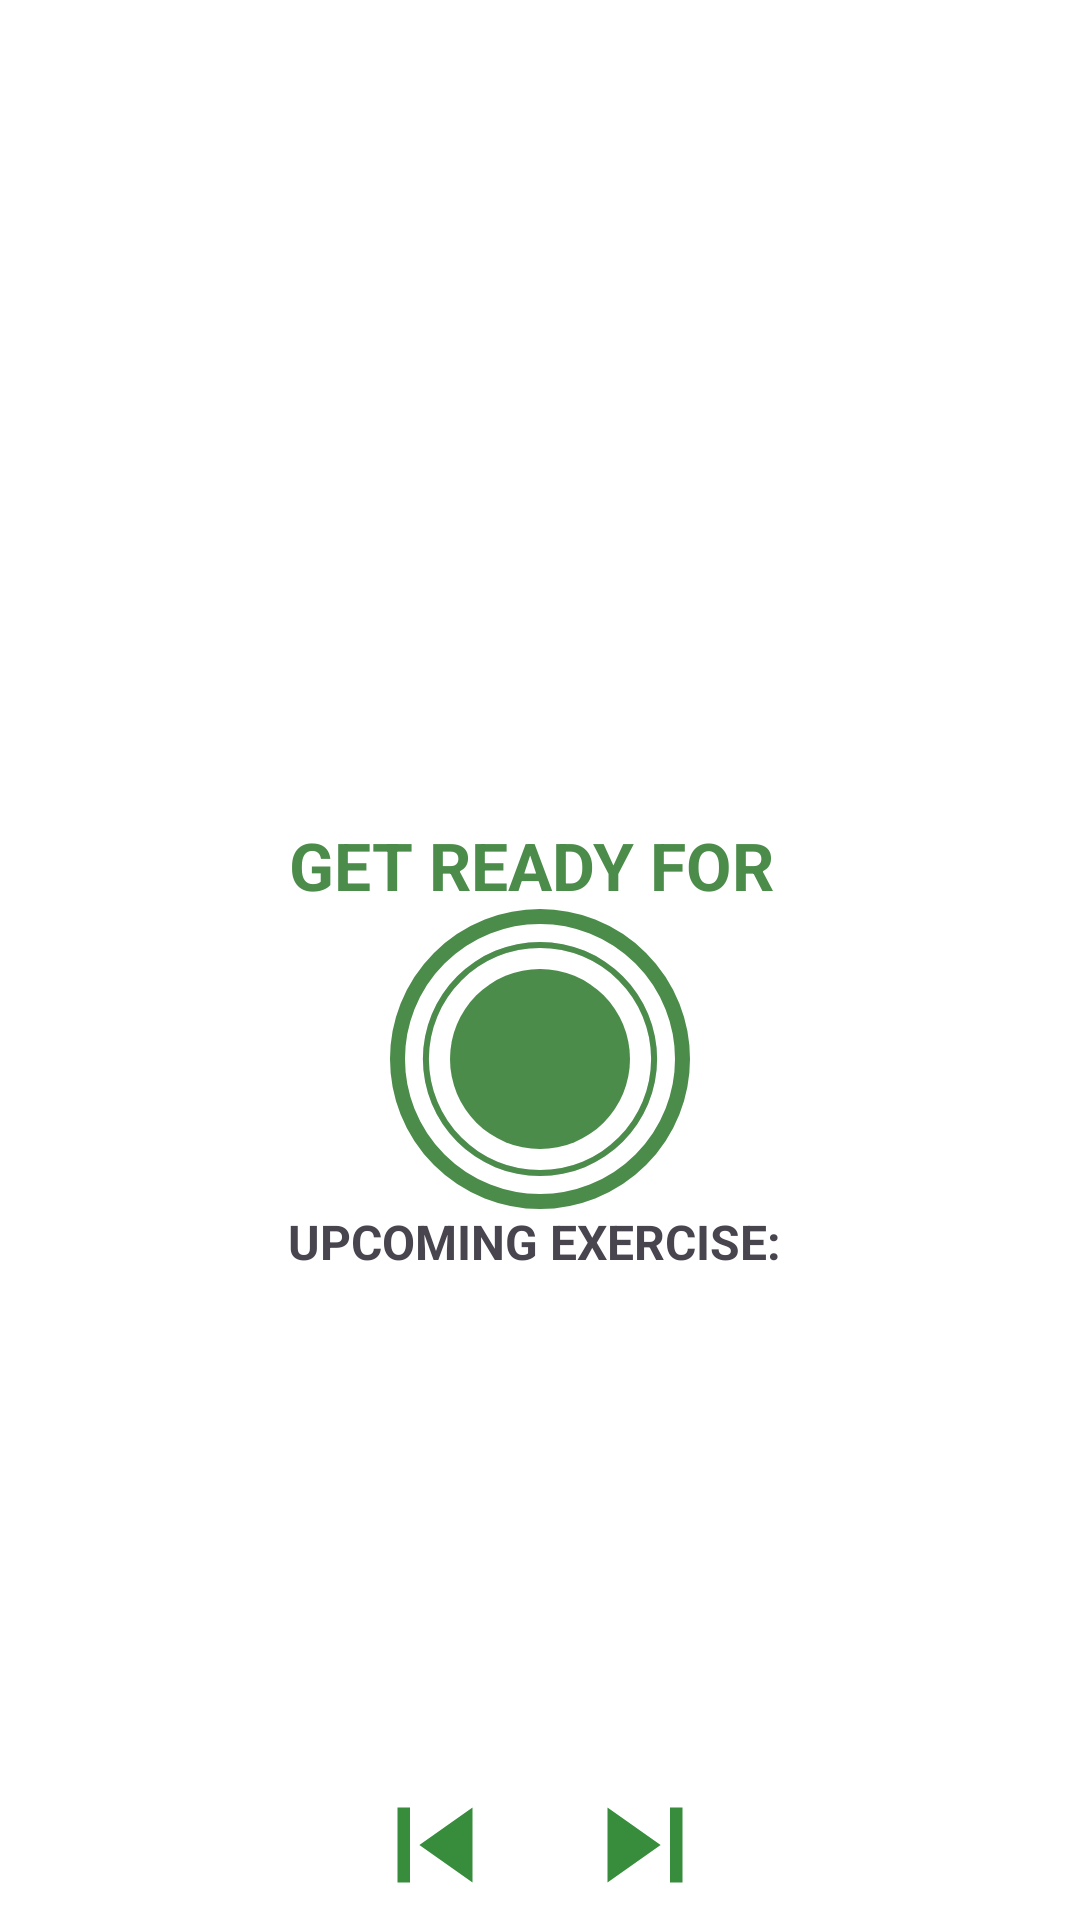

Screen size 1080w x 1920h. Icon name, then its box in pixels as (x1, y1, x2, y2):
Forward: (607, 1807, 683, 1883)
